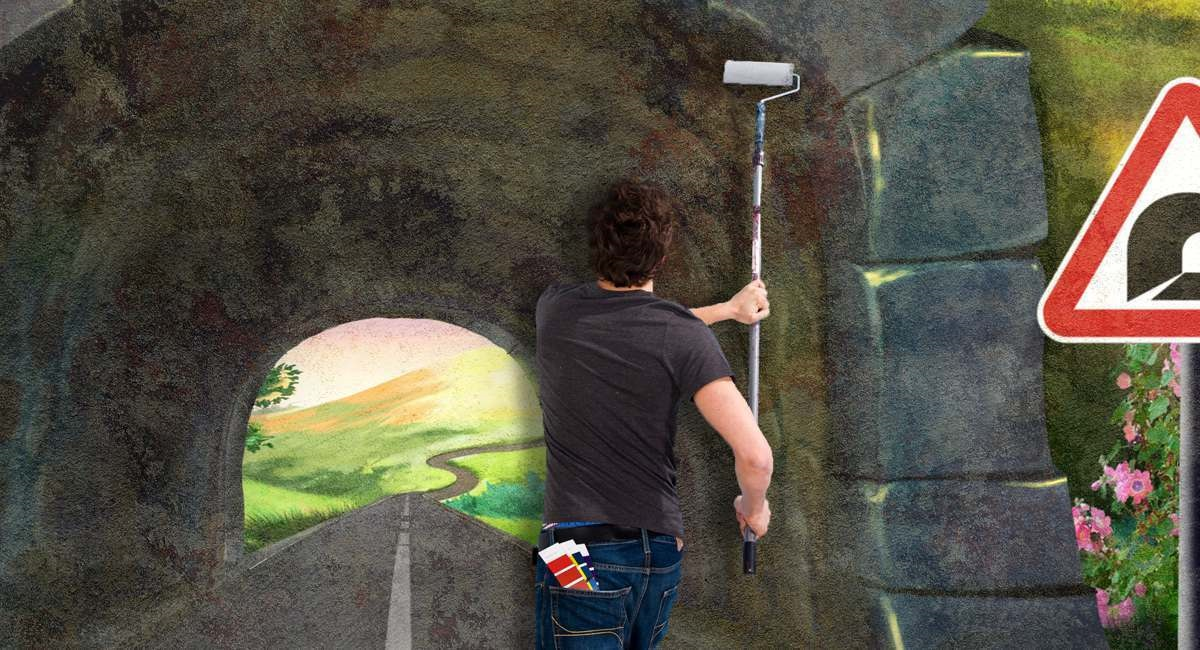painting: (1, 1, 1050, 650)
